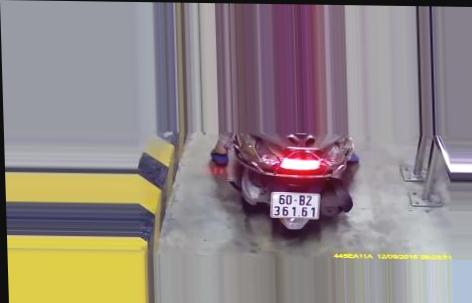License_Plate: (268, 190, 320, 222)
